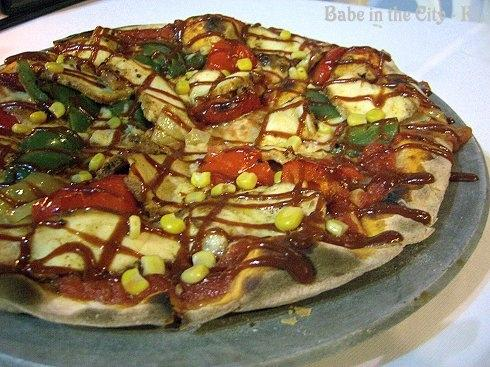bell pepper: (32, 175, 137, 225), (195, 146, 275, 186), (34, 73, 105, 118), (206, 38, 257, 74), (10, 150, 83, 174), (281, 158, 340, 184), (107, 100, 152, 132), (19, 130, 80, 153), (311, 47, 346, 85), (348, 121, 398, 147), (130, 44, 171, 74), (18, 62, 48, 101), (306, 91, 341, 120), (68, 108, 91, 132), (166, 52, 186, 78), (184, 50, 206, 72)
corn: (121, 268, 149, 295), (274, 207, 304, 232), (180, 264, 210, 284), (360, 215, 387, 237), (141, 254, 166, 277), (161, 213, 186, 234), (192, 250, 216, 268), (326, 219, 350, 237), (236, 171, 257, 189), (296, 52, 312, 74), (88, 152, 105, 172), (211, 183, 236, 196), (191, 172, 210, 188), (72, 170, 93, 184), (48, 102, 66, 118), (346, 113, 368, 126), (366, 108, 384, 123), (184, 192, 206, 204), (28, 110, 48, 123), (286, 136, 301, 152), (176, 80, 190, 96), (236, 57, 252, 70), (97, 106, 113, 118), (108, 116, 122, 129), (46, 62, 64, 72), (11, 123, 28, 133), (296, 66, 308, 80), (312, 150, 328, 160), (64, 58, 77, 68), (280, 29, 291, 40), (274, 170, 282, 184), (200, 45, 211, 55), (55, 54, 64, 66), (208, 36, 220, 42)
